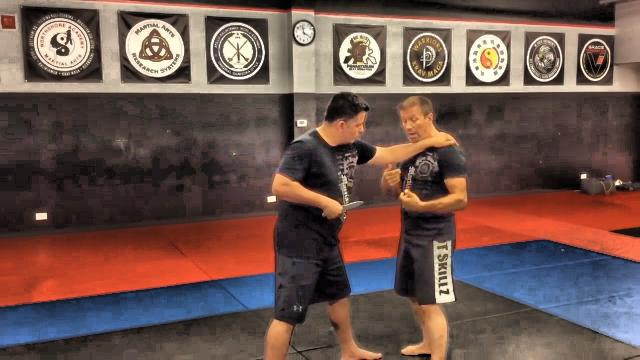knife: (320, 198, 364, 220)
